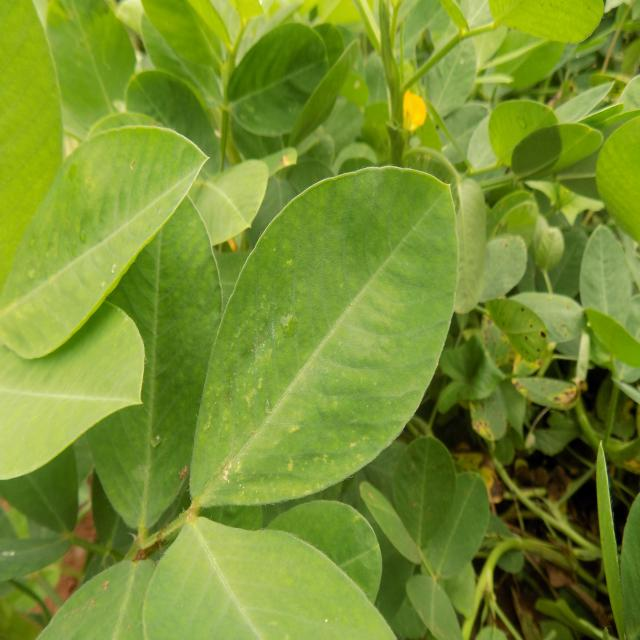Ground nut_healthy: (190, 161, 458, 505), (2, 126, 208, 359)
